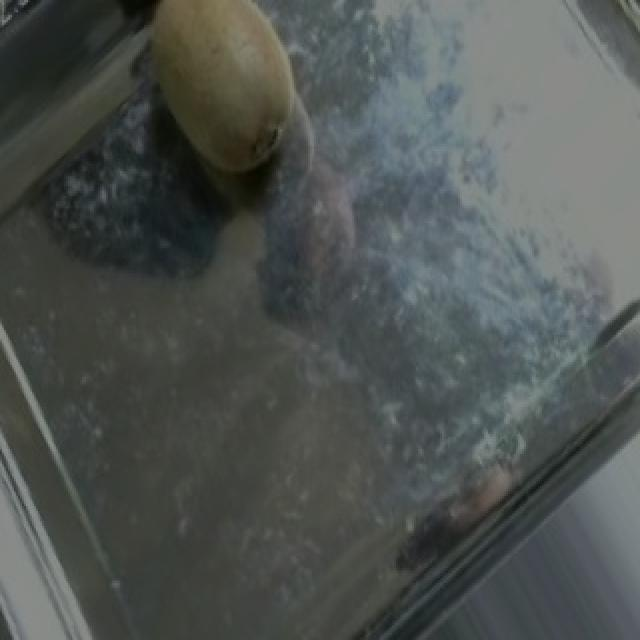Fruit: (110, 0, 332, 208)
